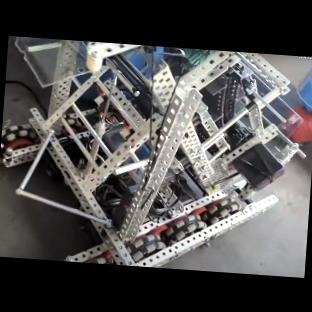Robot: (0, 35, 301, 267)
